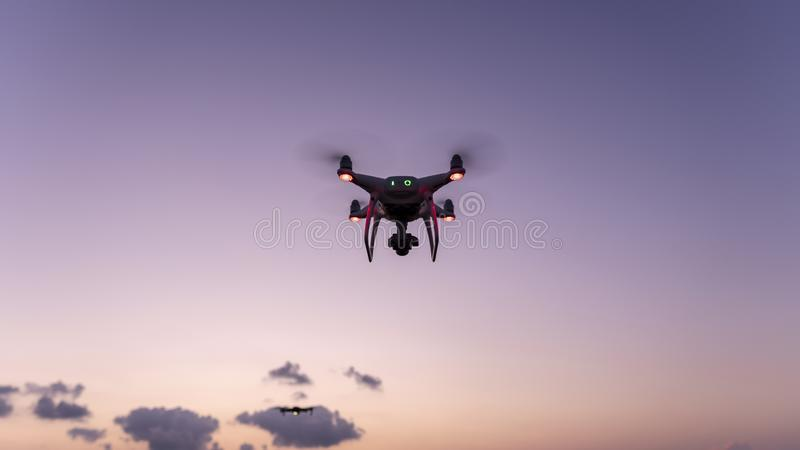drone_other: (293, 128, 506, 266)
